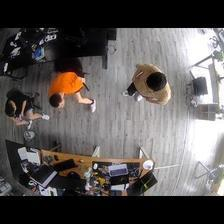normal: (119, 60, 175, 108), (40, 72, 102, 114), (5, 93, 52, 129)
